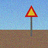sign: (25, 5, 38, 36)
